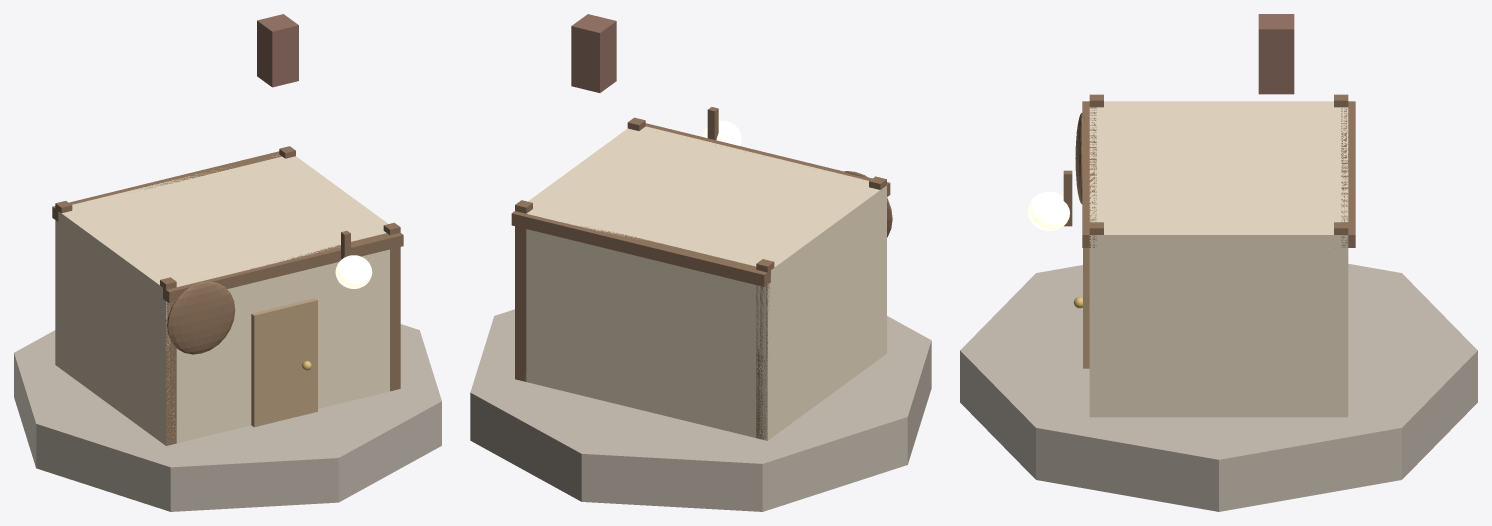
The model's file is chibi_house_warm.glb.
The picture shows the model from 3 angles, left to right: view 1: azimuth 30°, elevation 25°; view 2: azimuth 150°, elevation 25°; view 3: azimuth 270°, elevation 25°; orthographic projection. The views are drawn at different scales.
Visible parts, largest first — view 1: ChibiHouse_warm_2; view 2: ChibiHouse_warm_2; view 3: ChibiHouse_warm_2.
Boxes of the visible parts, box(x1,y1,x2,y2) form: ChibiHouse_warm_2: box(14, 14, 441, 511); ChibiHouse_warm_2: box(470, 14, 931, 511); ChibiHouse_warm_2: box(960, 14, 1477, 511).
Bounding box in the file's own units: 3.6 × 3.25 × 3.6.
